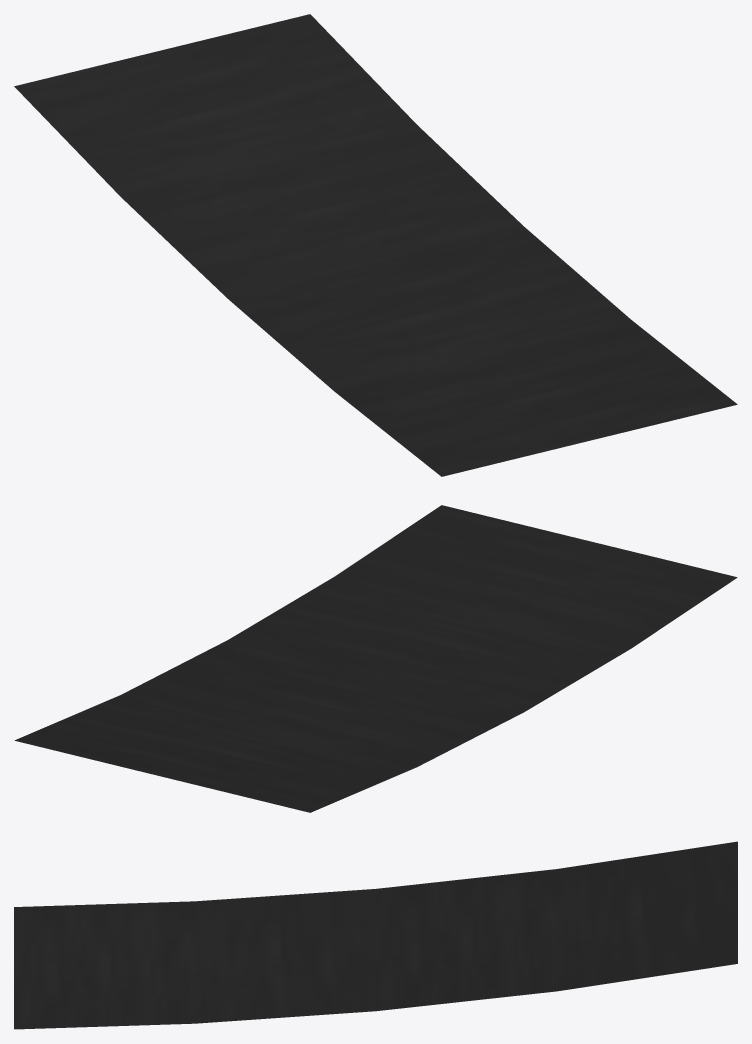
The model's file is SW_ENV_RailTunnelCeiling_Riser_A_Single_10m.fbx.
The picture shows the model from 3 angles, top to bottom: view 1: azimuth 30°, elevation 25°; view 2: azimuth 150°, elevation 25°; view 3: azimuth 270°, elevation 25°; orthographic projection. The views are drawn at different scales.
Visible parts, largest first — view 1: SW_ENV_RailTunnelCeiling_Riser_A_Single_10m; view 2: SW_ENV_RailTunnelCeiling_Riser_A_Single_10m; view 3: SW_ENV_RailTunnelCeiling_Riser_A_Single_10m.
Part boxes in pixels (x1,y1,x2,y2): SW_ENV_RailTunnelCeiling_Riser_A_Single_10m: (14,14,737,476); SW_ENV_RailTunnelCeiling_Riser_A_Single_10m: (14,505,737,812); SW_ENV_RailTunnelCeiling_Riser_A_Single_10m: (14,841,737,1029).
Size of the model in its own units: 400 by 100 by 1000.
